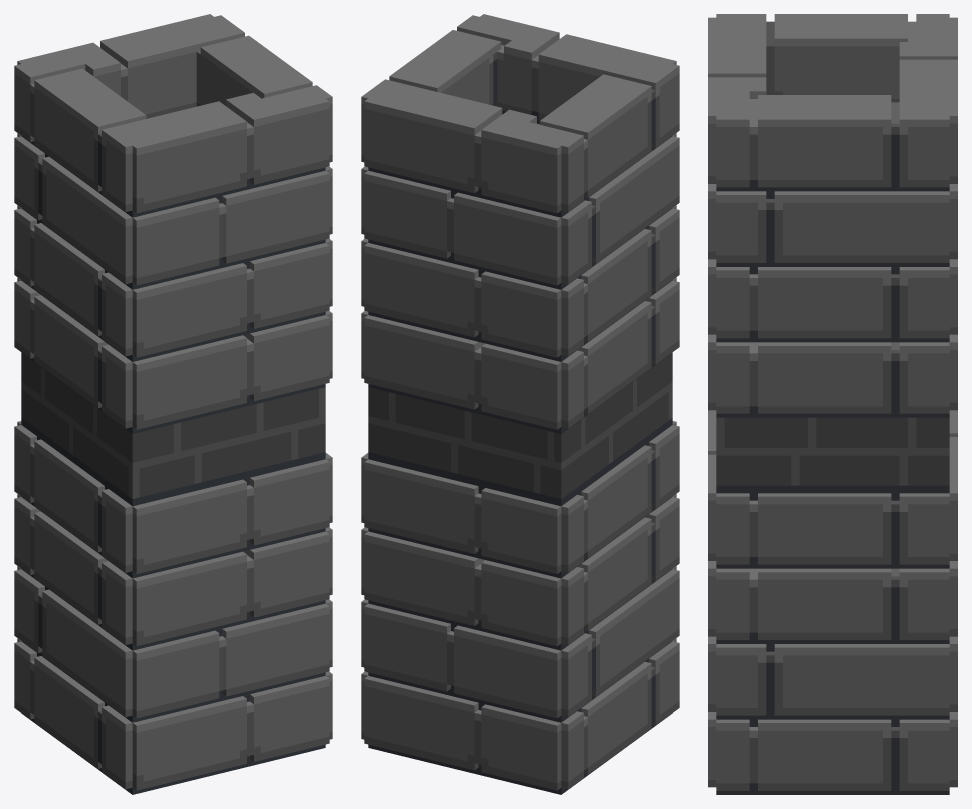
Rendered from Tilemap_Deco_C0_P005.obj.
3 renders of one model, left to right at view 1: azimuth 30°, elevation 25°; view 2: azimuth 150°, elevation 25°; view 3: azimuth 270°, elevation 25°, orthographic. The views are drawn at different scales.
Size of the model in its own units: 3 by 9 by 3.
Materials: 1 (1 with a texture image).
